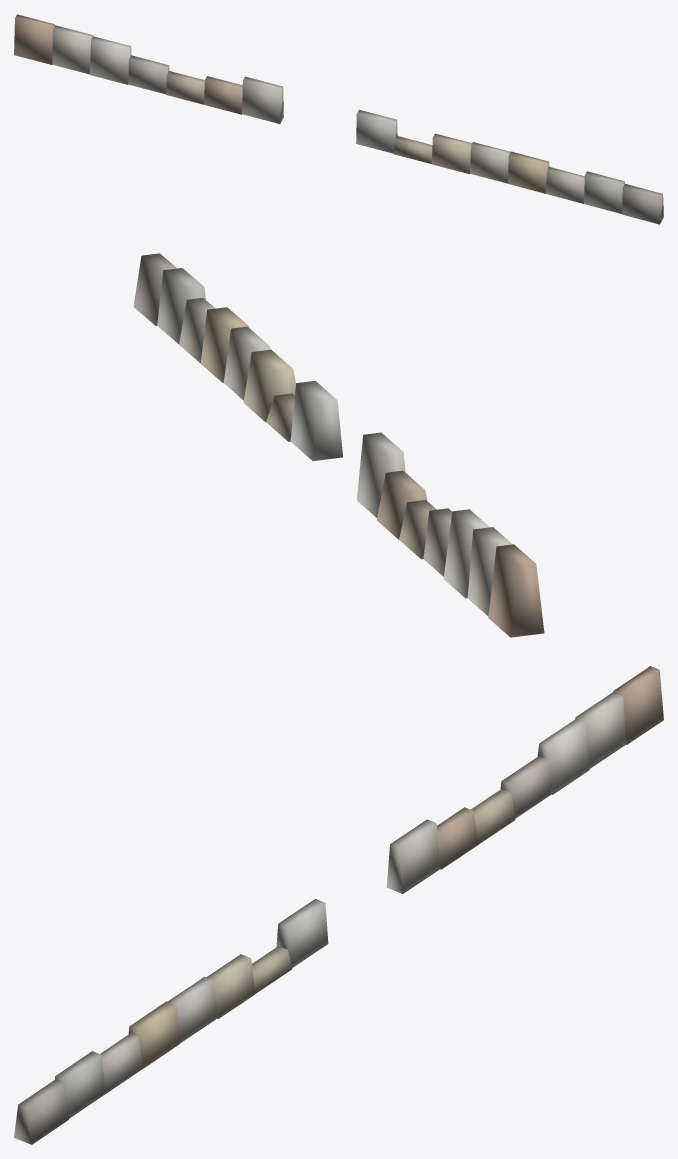
Rendered from farm_-4_-6_collision.glb.
The picture shows the model from 3 angles, top to bottom: view 1: azimuth 30°, elevation 25°; view 2: azimuth 150°, elevation 25°; view 3: azimuth 270°, elevation 25°; orthographic projection. The views are drawn at different scales.
Parts seen in each view (by area): view 1: geometry_0; view 2: geometry_0; view 3: geometry_0.
Part boxes in pixels (x1=…): geometry_0: x1=14, y1=14, x2=663, y2=224; geometry_0: x1=133, y1=253, x2=544, y2=637; geometry_0: x1=14, y1=666, x2=663, y2=1144.
Bounding box in the file's own units: 19.17 × 5.96 × 18.26.
